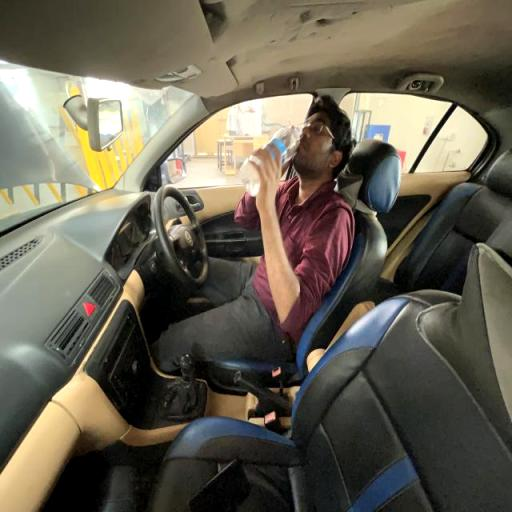Drinking: (233, 96, 358, 328)
